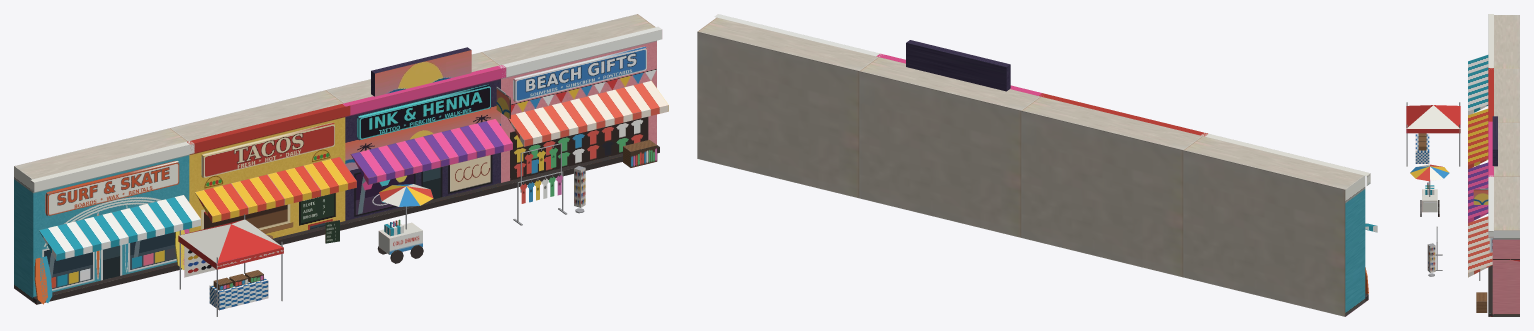
The model's file is venice_boardwalk_kit.glb.
The picture shows the model from 3 angles, left to right: view 1: azimuth 30°, elevation 25°; view 2: azimuth 150°, elevation 25°; view 3: azimuth 270°, elevation 25°; orthographic projection. The views are drawn at different scales.
Parts seen in each view (by area): view 1: facade_surf, facade_tattoo, facade_souvenir, facade_taco, stall_canopy, stall_cart, stall_rack; view 2: facade_surf, facade_tattoo, facade_taco, facade_souvenir; view 3: facade_souvenir, facade_tattoo, facade_surf, facade_taco, stall_canopy, stall_cart, stall_rack.
Boxes of the visible parts, x1,y1,x2,y2 form: facade_surf: (14, 128, 200, 304); facade_tattoo: (326, 47, 512, 228); facade_souvenir: (482, 14, 668, 192); facade_taco: (170, 90, 356, 244); stall_canopy: (178, 214, 283, 316); stall_cart: (377, 184, 433, 263); stall_rack: (513, 166, 585, 225); facade_surf: (1183, 132, 1377, 316); facade_tattoo: (859, 40, 1043, 237); facade_taco: (1021, 93, 1207, 277); facade_souvenir: (697, 14, 883, 198); facade_souvenir: (1468, 175, 1519, 316); facade_tattoo: (1468, 116, 1519, 222); facade_surf: (1468, 14, 1519, 114); facade_taco: (1468, 68, 1519, 168); stall_canopy: (1406, 102, 1460, 166); stall_cart: (1410, 164, 1449, 216); stall_rack: (1427, 226, 1442, 276).
Size of the model in its own units: 28.2 by 6.25 by 6.26.
2 materials, 2 textured.
